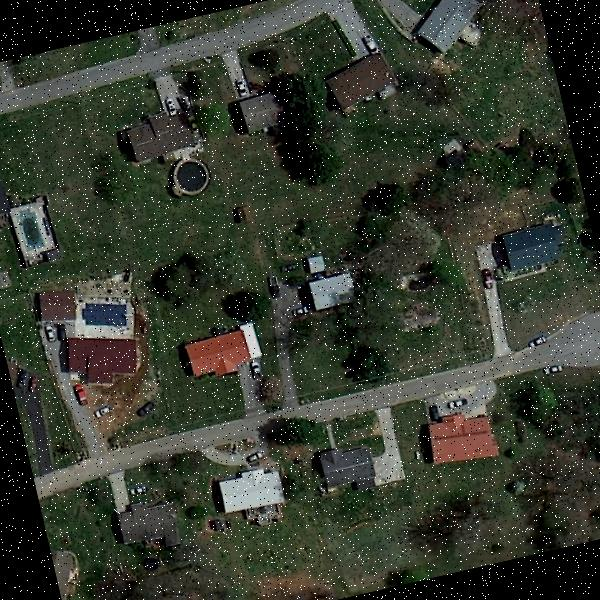Buildings: (117, 492, 186, 553), (66, 325, 136, 382), (429, 413, 496, 472), (123, 110, 204, 158), (318, 435, 378, 490), (404, 0, 476, 44), (191, 329, 256, 377), (496, 224, 562, 270), (217, 468, 284, 509), (334, 60, 399, 97), (240, 96, 284, 128)
